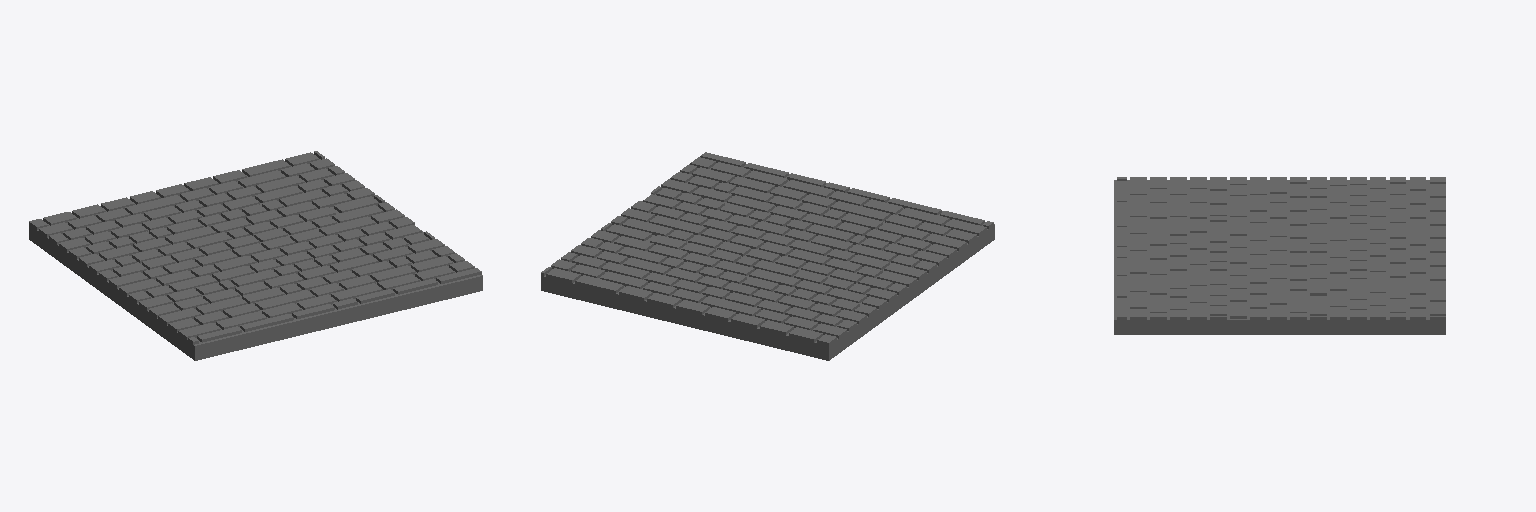
3 renders of one model, left to right at view 1: azimuth 30°, elevation 25°; view 2: azimuth 150°, elevation 25°; view 3: azimuth 270°, elevation 25°, orthographic.
Parts seen in each view (by area): view 1: object 1; view 2: object 1; view 3: object 1.
Boxes of the visible parts, box(x1,y1,x2,y2) form: object 1: box(29, 151, 482, 360); object 1: box(541, 152, 994, 360); object 1: box(1114, 177, 1445, 334).
Size of the model in its own units: 10 by 0.6 by 10.
1 materials, 1 textured.